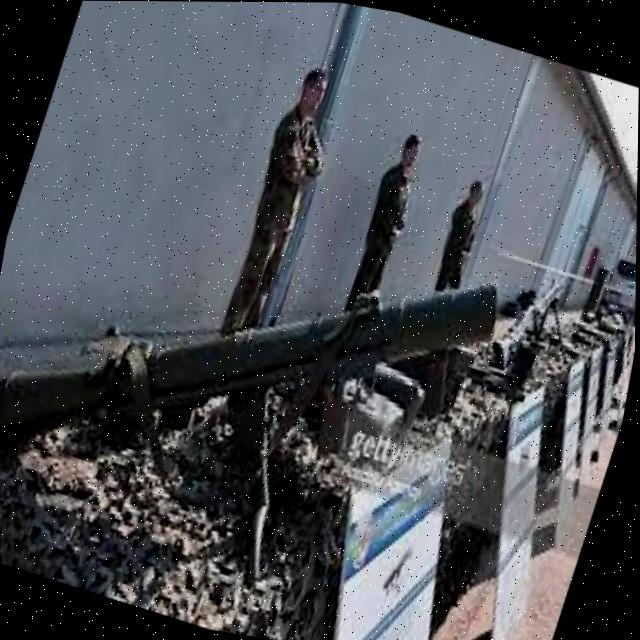rocket: (0, 143, 519, 583)
